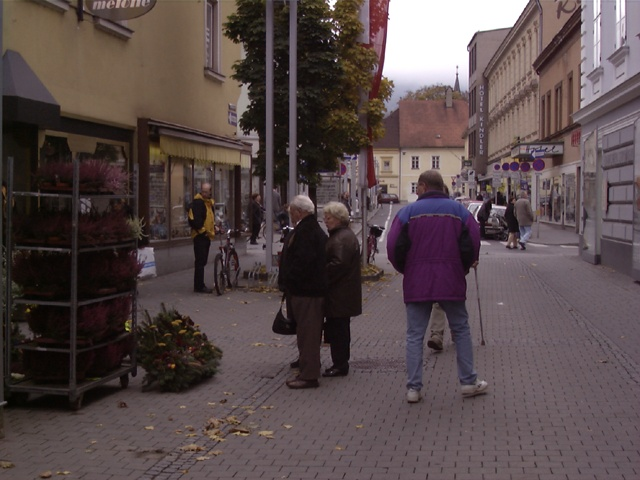person: (388, 167, 487, 403), (281, 194, 328, 389), (315, 198, 364, 380), (186, 177, 221, 293)
